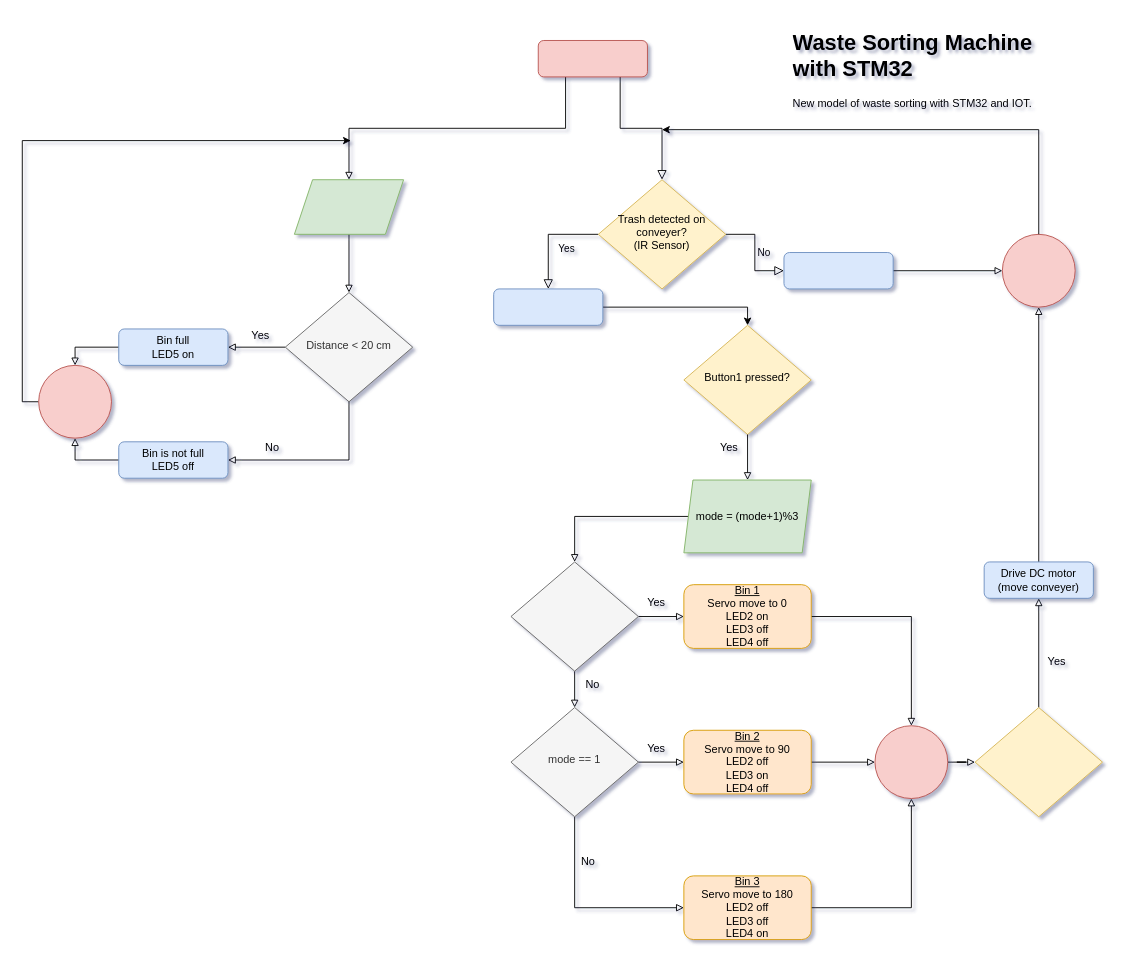
Some shapes in this 1124 by 961 pixel diagram are drawn without their labels. The centre of each missing label's shape, as x and y in pixels:
Button2 pressed?: (1038,762)
LED1 on: (548,306)
mode == 0: (574,616)
Read Distance (Ultrasonic): (348,206)
Start: (592,58)
Wait for trash LED1 off: (838,270)
